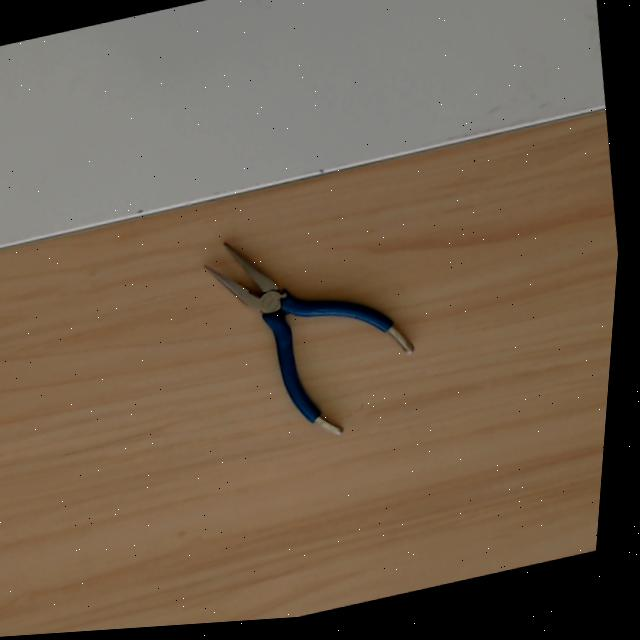Tang-Jepit-Biru: (172, 201, 420, 443)
